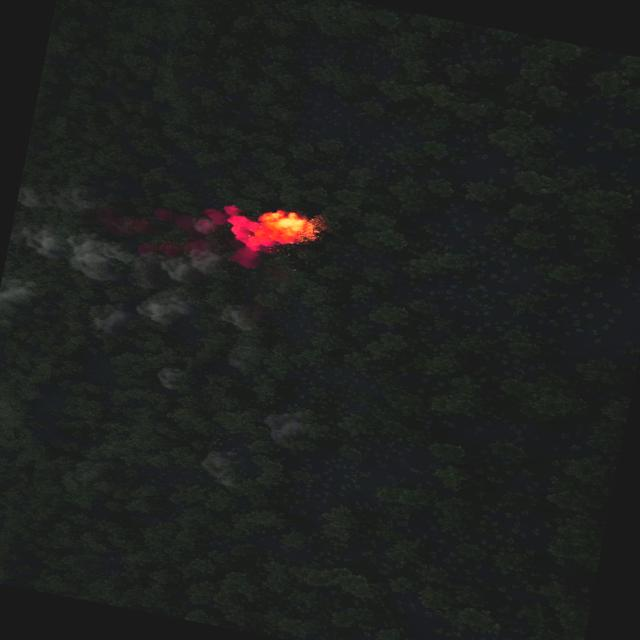fire: (220, 202, 314, 260)
smoke: (0, 160, 282, 355), (259, 406, 308, 444), (198, 446, 242, 486), (154, 364, 184, 394)
